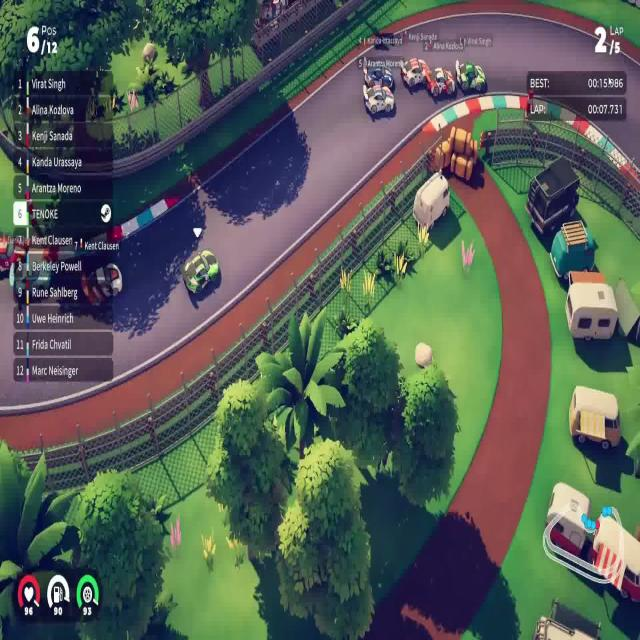car: (80, 262, 124, 308), (182, 248, 220, 296), (362, 81, 395, 117), (455, 58, 486, 94), (399, 56, 430, 90), (427, 64, 457, 99), (363, 58, 395, 86)
